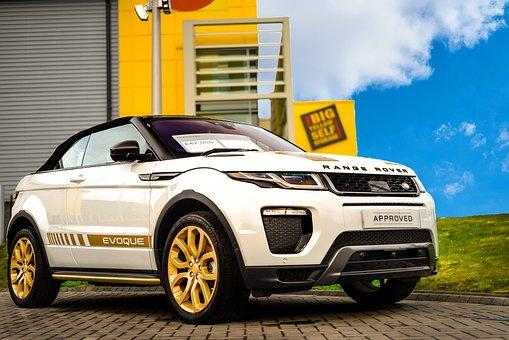range rover: (318, 161, 411, 175)
